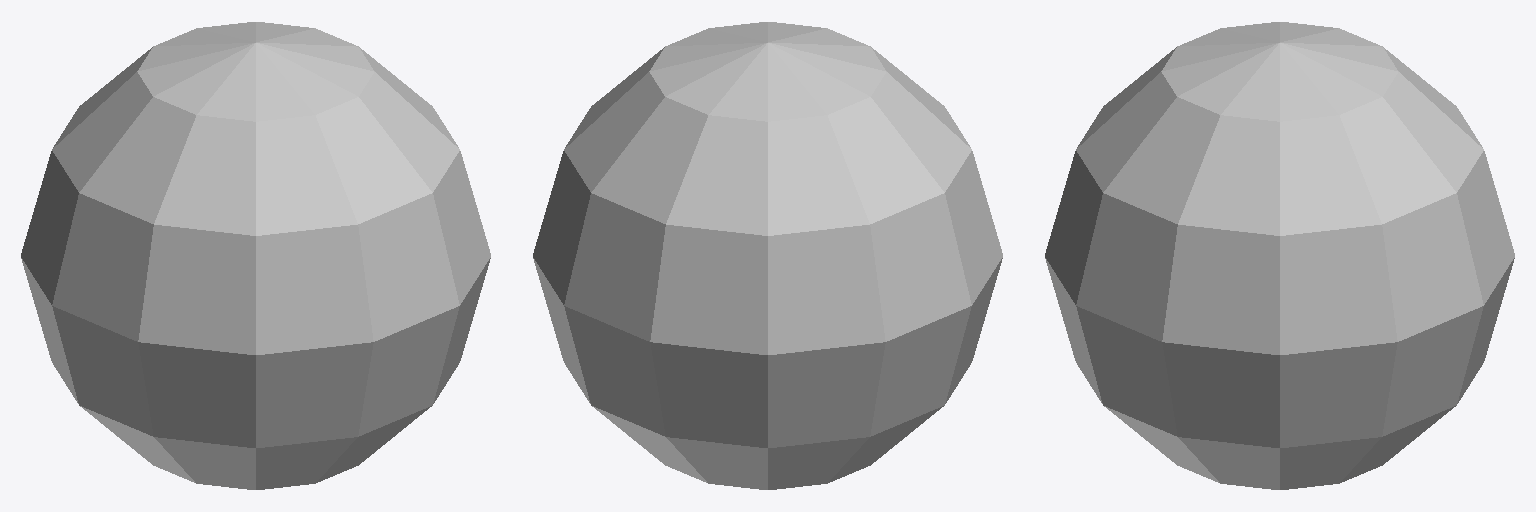
The model's file is Projectile (2).obj.
The picture shows the model from 3 angles: view 1: azimuth 30°, elevation 25°; view 2: azimuth 150°, elevation 25°; view 3: azimuth 270°, elevation 25°; orthographic projection.
Visible parts, largest first — view 1: Sphere.001; view 2: Sphere.001; view 3: Sphere.001.
Boxes of the visible parts, <box> form: Sphere.001: <box>21,22,490,489</box>; Sphere.001: <box>533,22,1002,489</box>; Sphere.001: <box>1045,22,1514,489</box>.
Size of the model in its own units: 2.32 by 2.32 by 2.32.